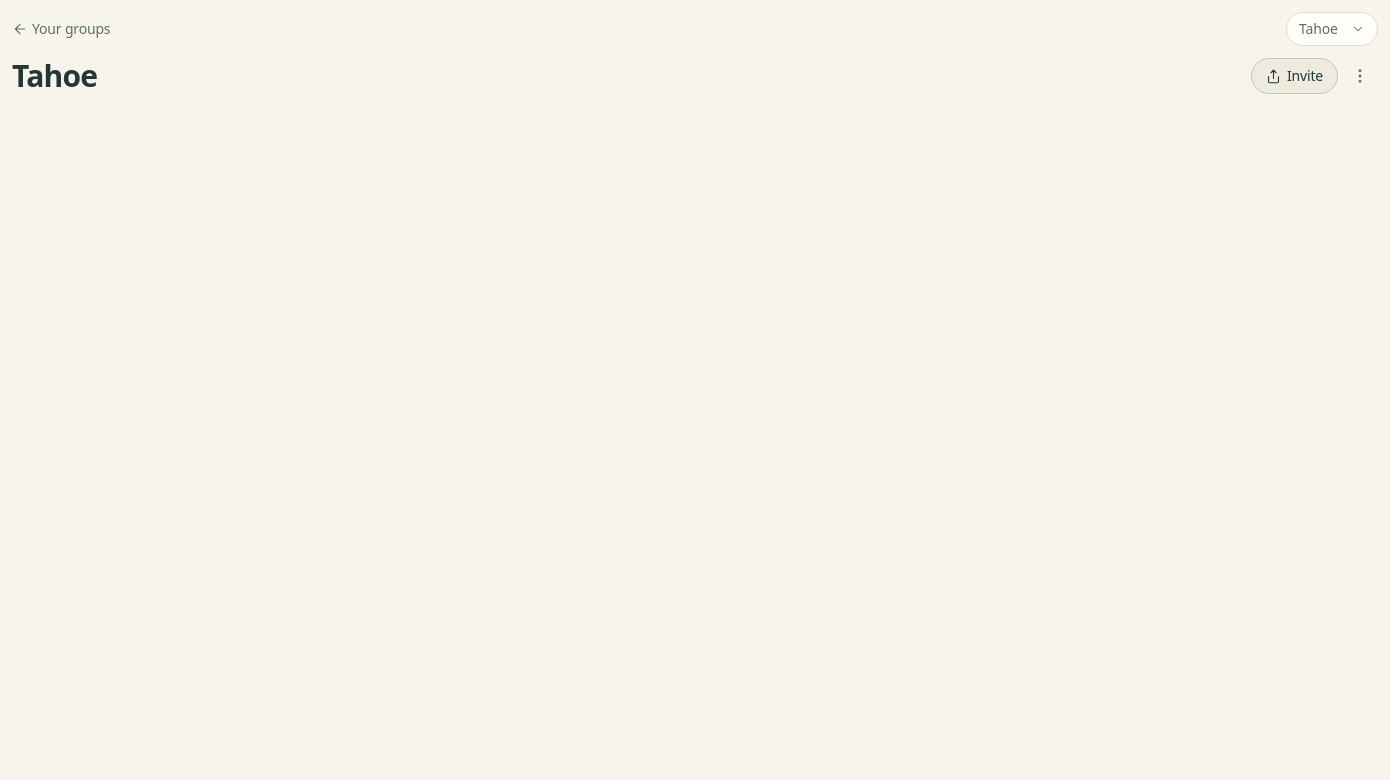
the menu getting out of the way › closes on a click anywhere else
Click the button named "Group options" at point(1360, 76), box x1=1342 y1=58 x2=1378 y2=94
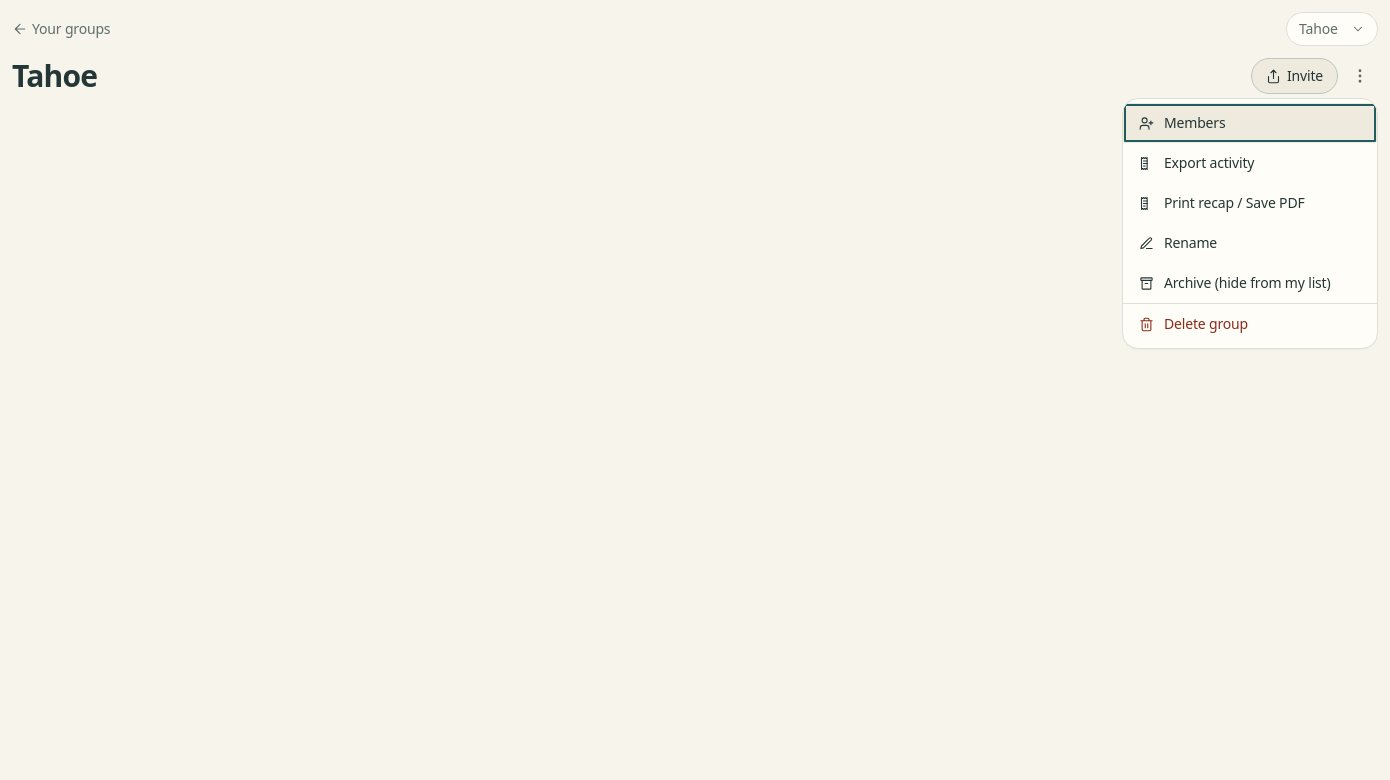
Click the element that starts with "Your groups" at point(695, 396), box x1=12 y1=12 x2=1378 y2=779
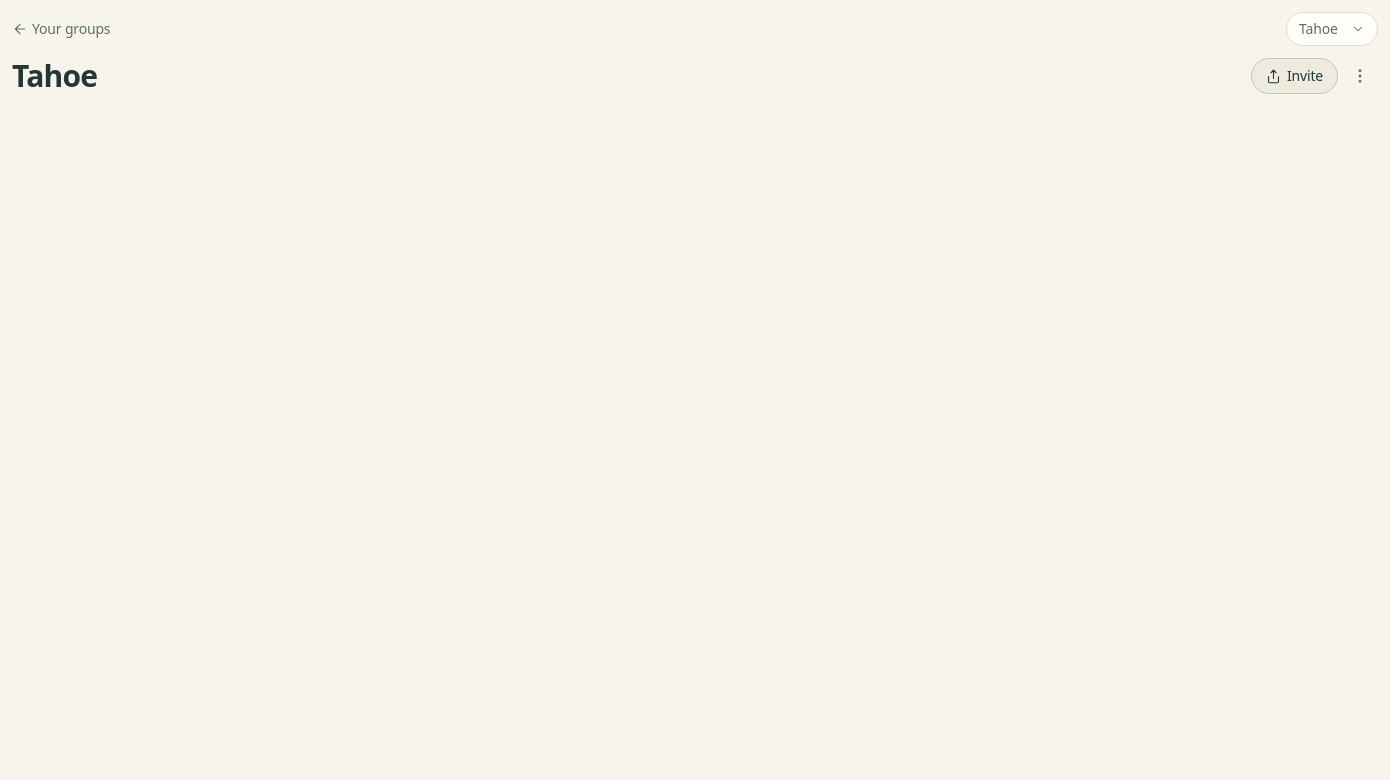
Now the menu is gone
